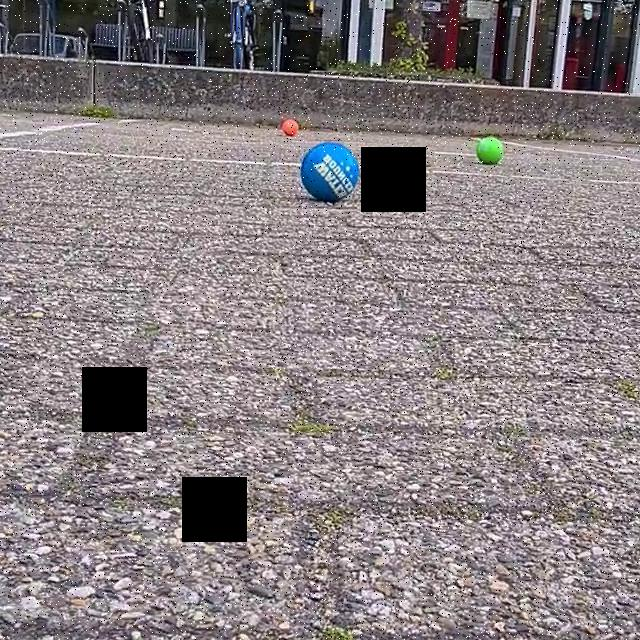ball: (475, 133, 504, 168), (278, 114, 300, 139)
